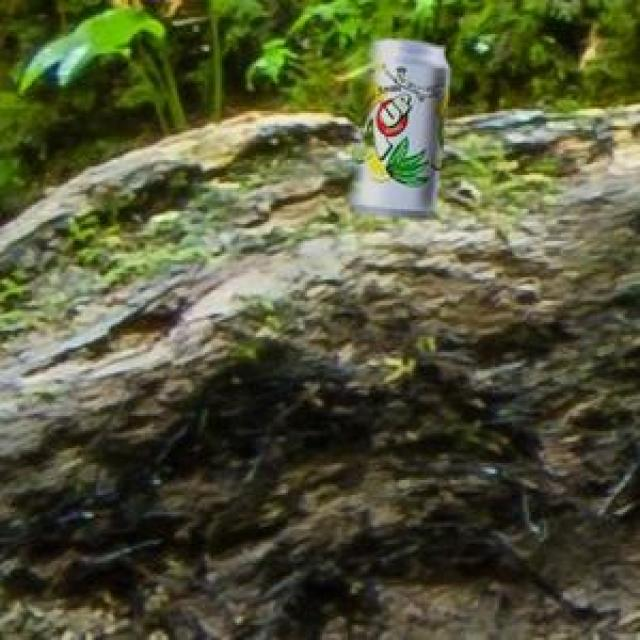logam: (347, 35, 447, 214)
